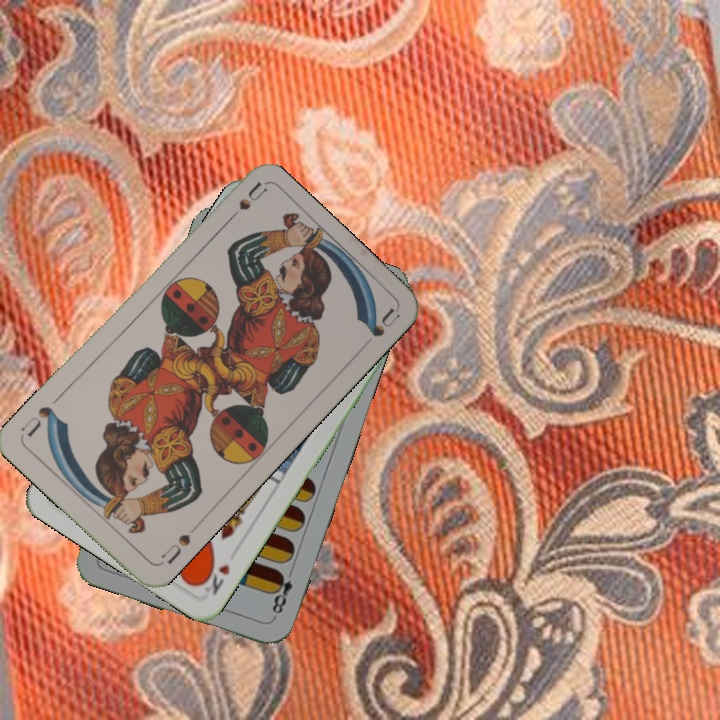E8: (268, 564, 297, 621)
HK: (207, 560, 233, 598)
SU: (219, 180, 268, 229), (155, 529, 194, 568)
